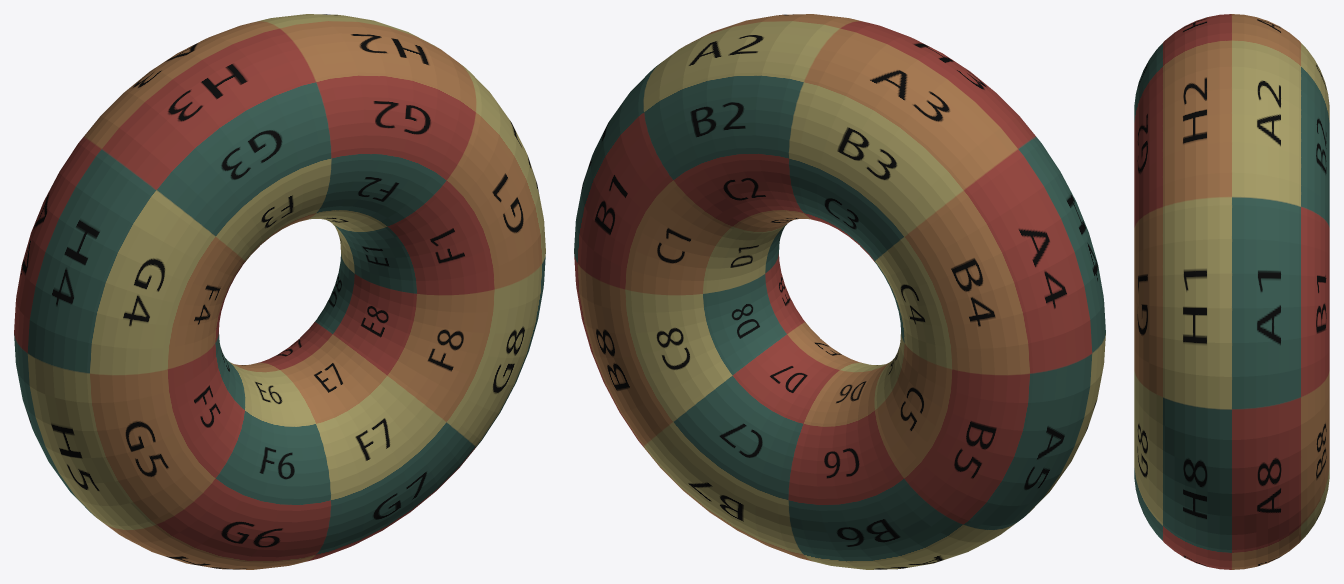
The model's file is texture_torus_R6_r21.glb.
The picture shows the model from 3 angles, left to right: view 1: azimuth 30°, elevation 25°; view 2: azimuth 150°, elevation 25°; view 3: azimuth 270°, elevation 25°; orthographic projection. The views are drawn at different scales.
Visible parts, largest first — view 1: world; view 2: world; view 3: world.
Boxes of the visible parts, x1,y1,x2,y2 form: world: [14, 14, 545, 569]; world: [574, 14, 1105, 569]; world: [1134, 14, 1329, 569].
Size of the model in its own units: 21.6 by 21.56 by 7.59.
Materials: 1 (1 with a texture image).
